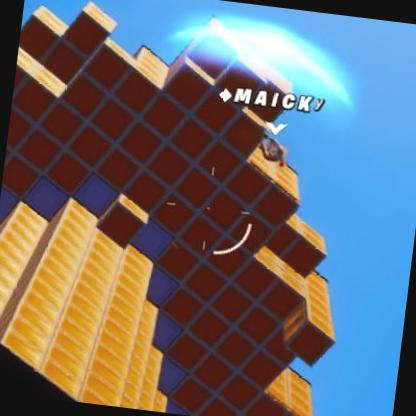person: (266, 135, 284, 168)
